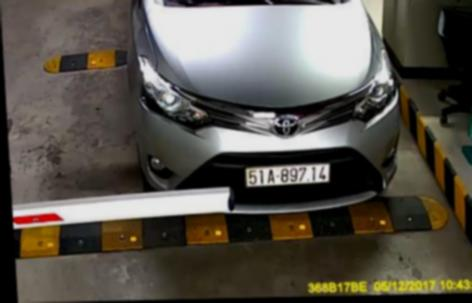License_Plate: (241, 160, 335, 189)
